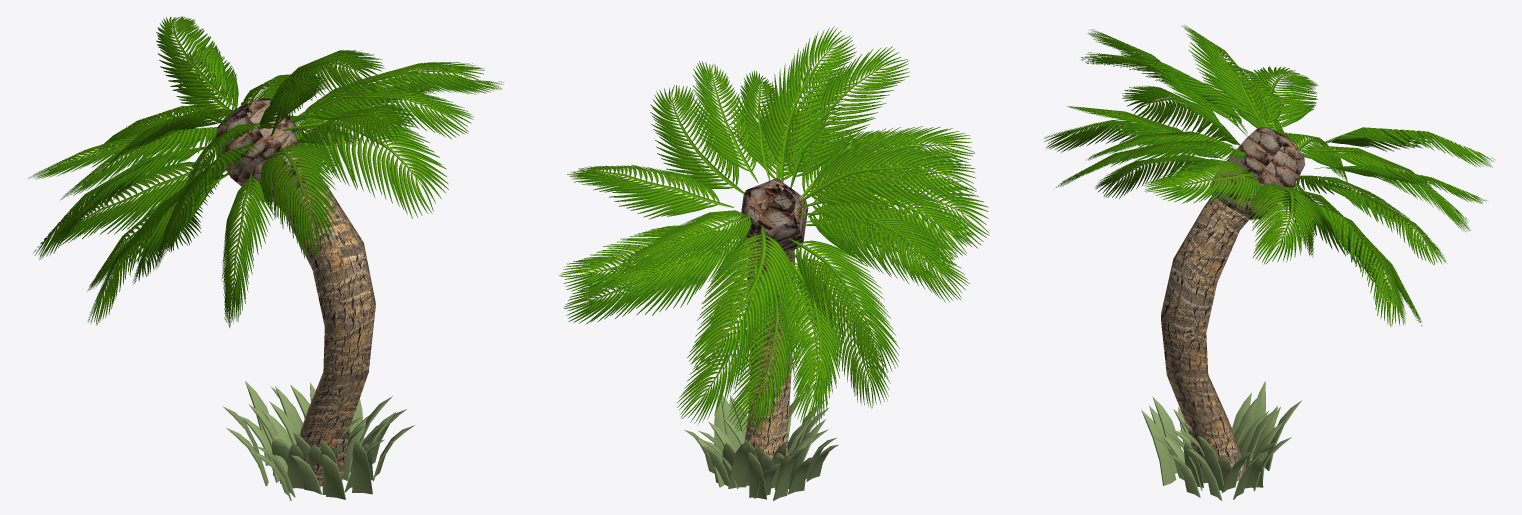
File: Palm Tree 4.fbx
The picture shows the model from 3 angles, left to right: view 1: azimuth 30°, elevation 25°; view 2: azimuth 150°, elevation 25°; view 3: azimuth 270°, elevation 25°; orthographic projection. The views are drawn at different scales.
Parts seen in each view (by area): view 1: Palm_Bent; view 2: Palm_Bent; view 3: Palm_Bent.
Part boxes in pixels (x1,y1,x2,y2): Palm_Bent: (28, 16, 503, 500); Palm_Bent: (559, 26, 989, 500); Palm_Bent: (1044, 25, 1494, 500).
Bounding box in the file's own units: 945 × 942 × 965.
4 materials, 3 textured.
